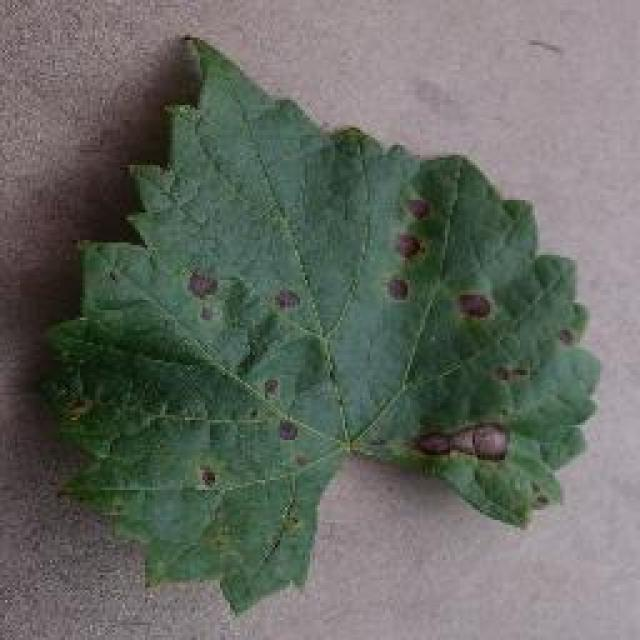Grape___Black_rot: (29, 31, 609, 622)
